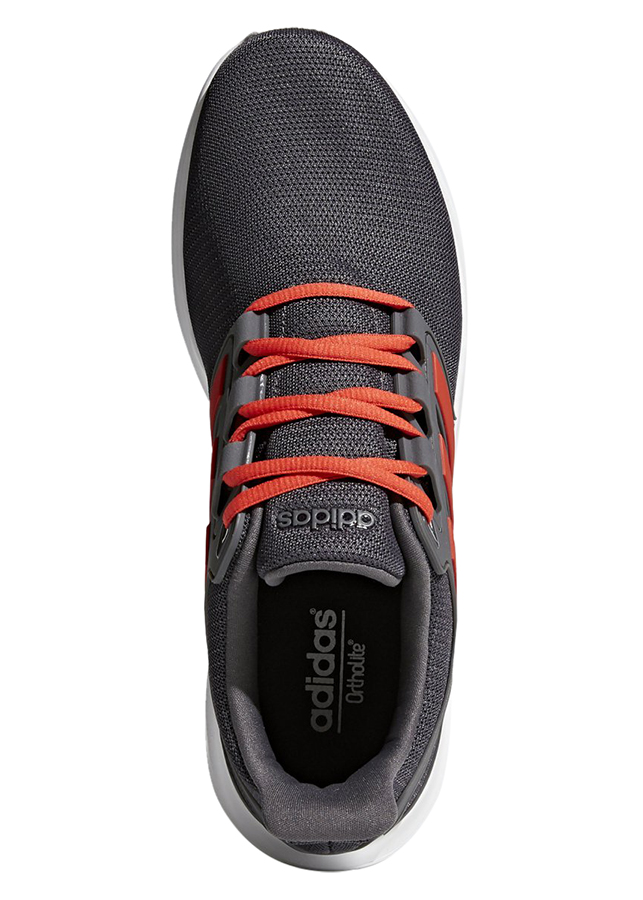Adidas: (303, 597, 341, 737), (274, 505, 382, 535)
